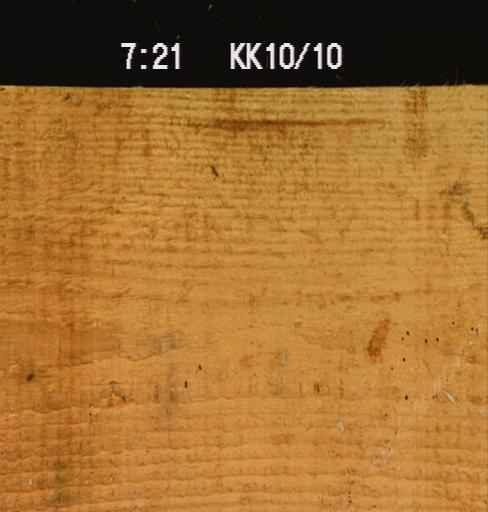small_knot: (23, 370, 37, 382)
